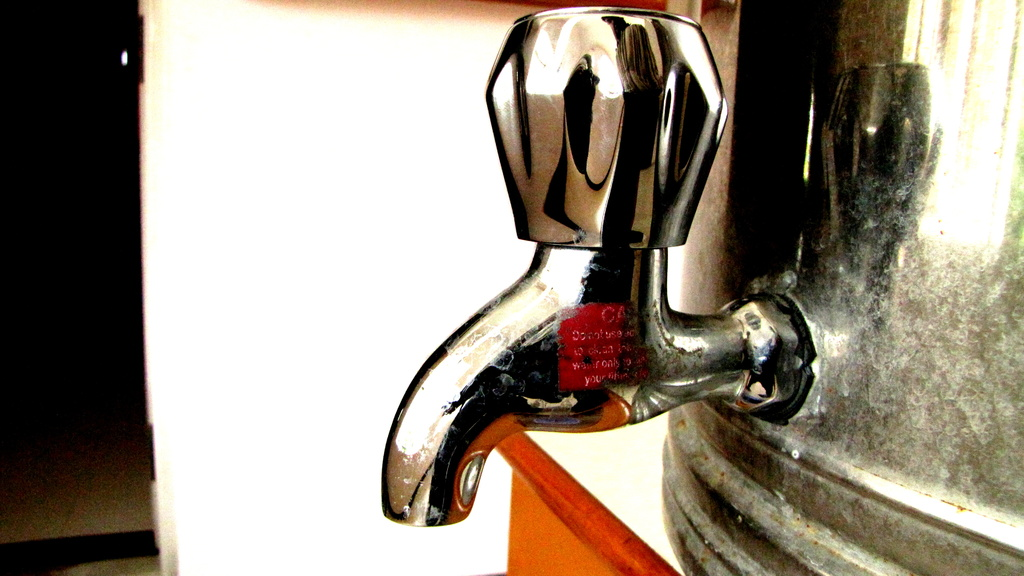tap: (343, 45, 827, 538)
